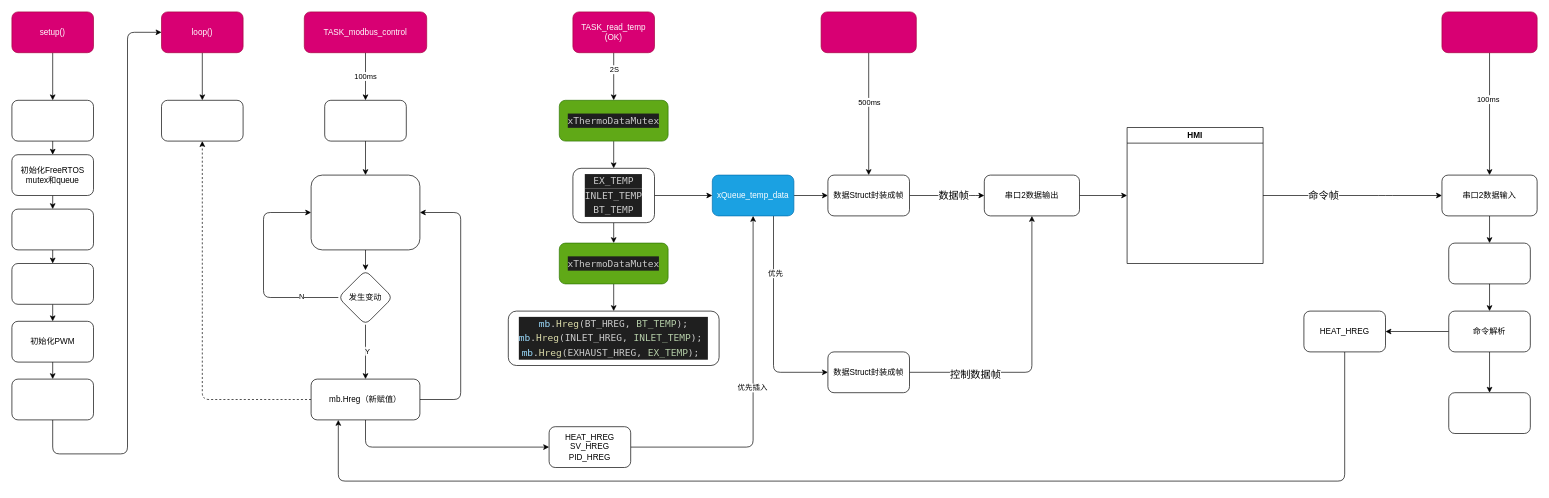
The diagram is 1549 pixels wide and 498 high, and some of its shapes have lost their labels. The centre of each missing label's shape, as x and y in pixels:
getCurrentHreg(): point 365,120
HEAT_HREG SV_HREG PID_HREG P_HREG I_HREG D_HREG: point 365,212
mb.task(): point 202,120
TASK_DATA_to_HMI: point 868,32
TASK_HMI_CMD_handle: point 1489,32
主板命令操作 冷却开关 火力开关: point 1489,413
初始化Modbus: point 52,399
初始化wifi: point 52,229
初始化串口1/2: point 52,120
初始化温度传感器: point 52,283
数据格式化提取: point 1489,263
